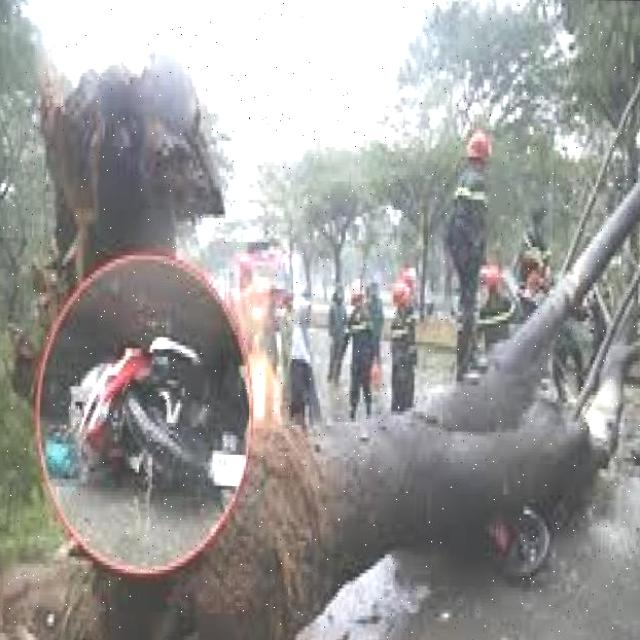fallen_object: (6, 174, 640, 632)
